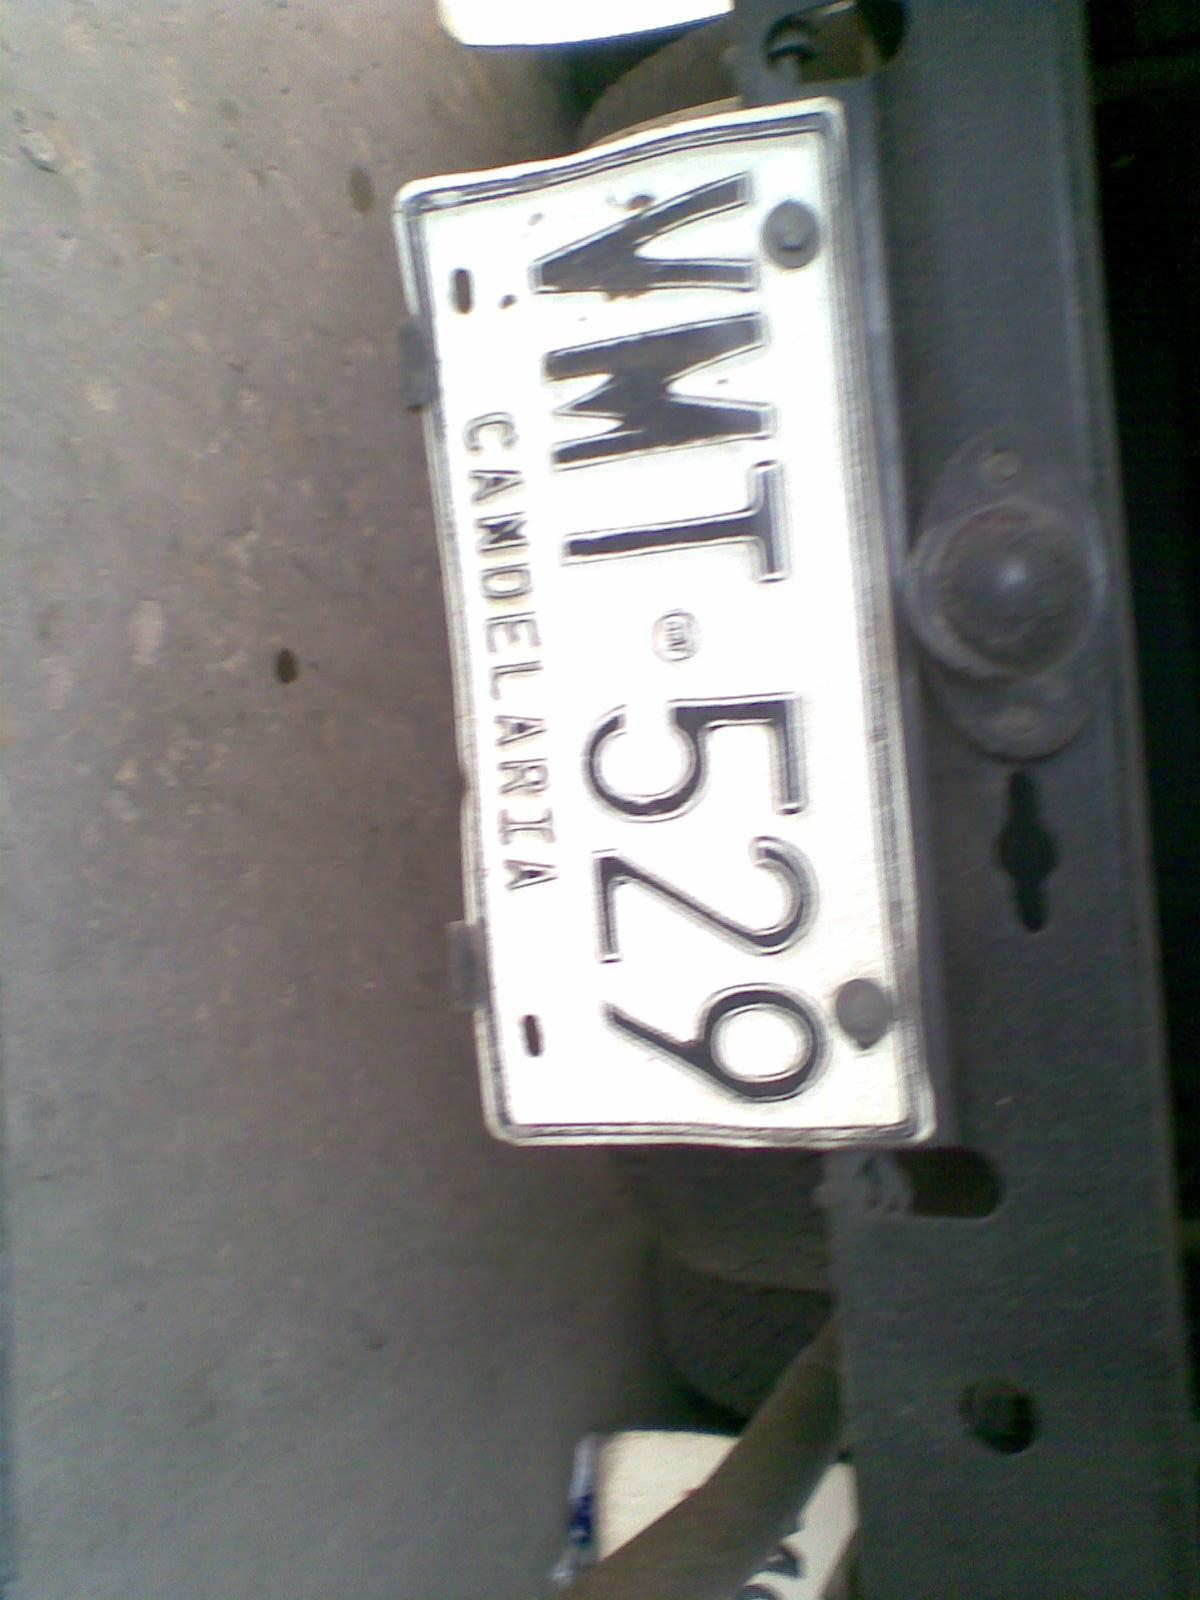placas: (370, 87, 988, 1194)
